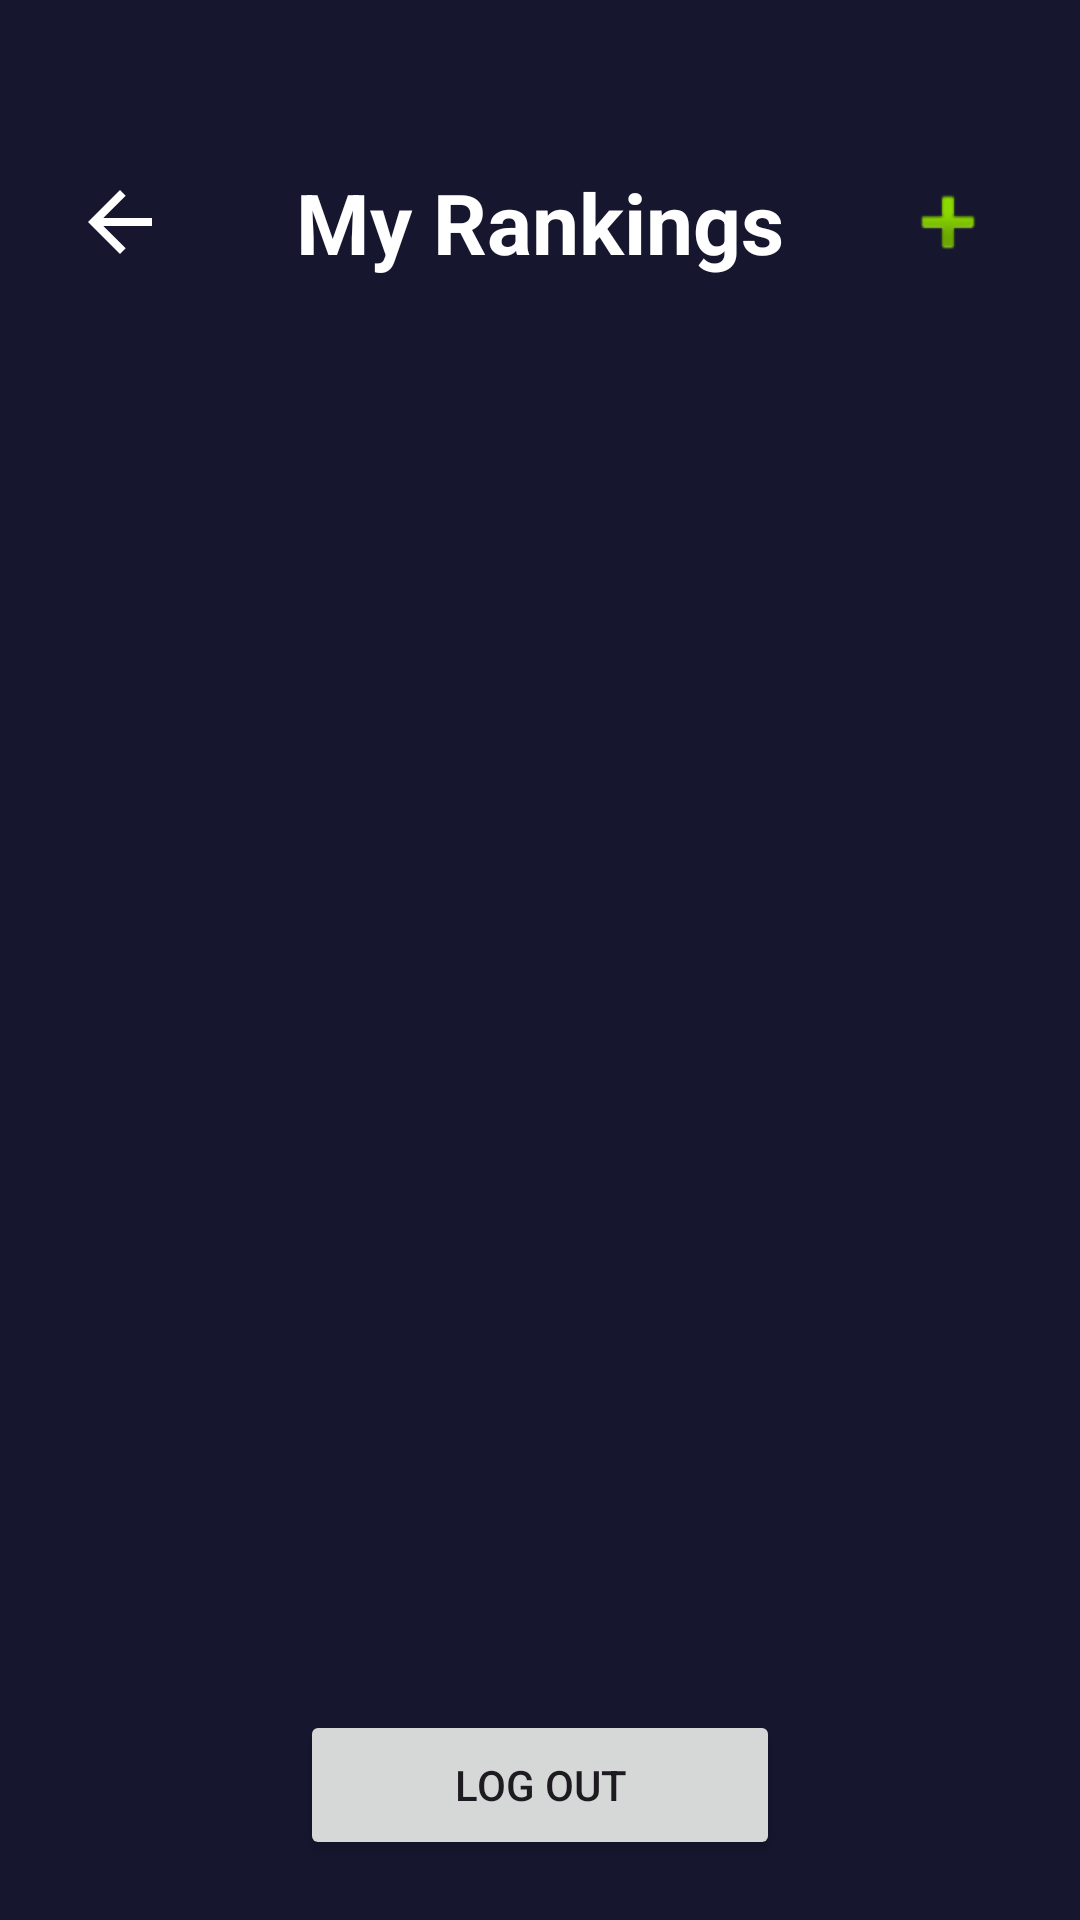

Named icons in this screenshot (1080x1920) and their centers, [x,y]:
Add movie: [948,222]
Back: [120,222]
